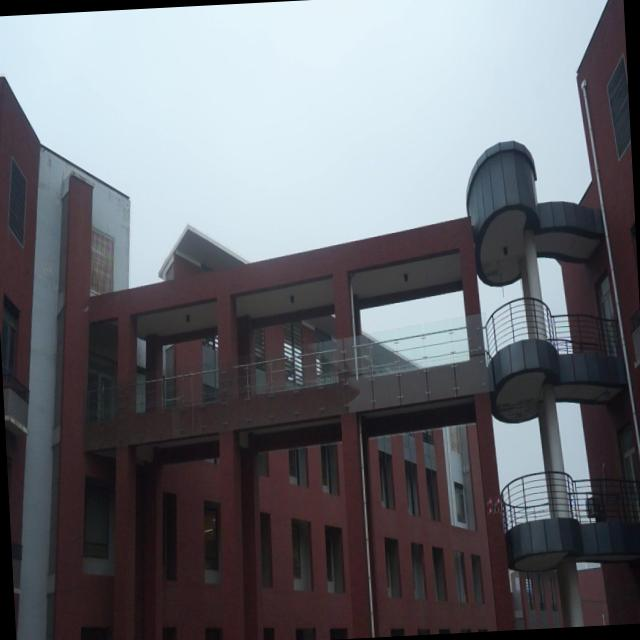drone: (485, 492, 502, 519)
